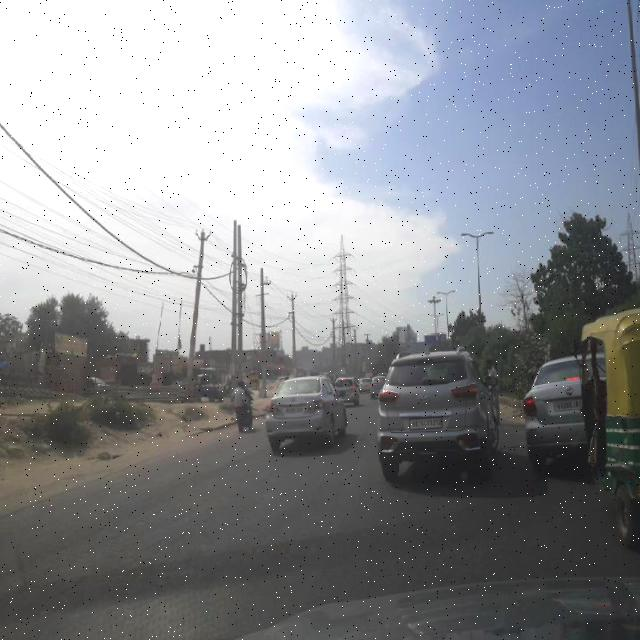D20: (45, 449, 527, 619)
